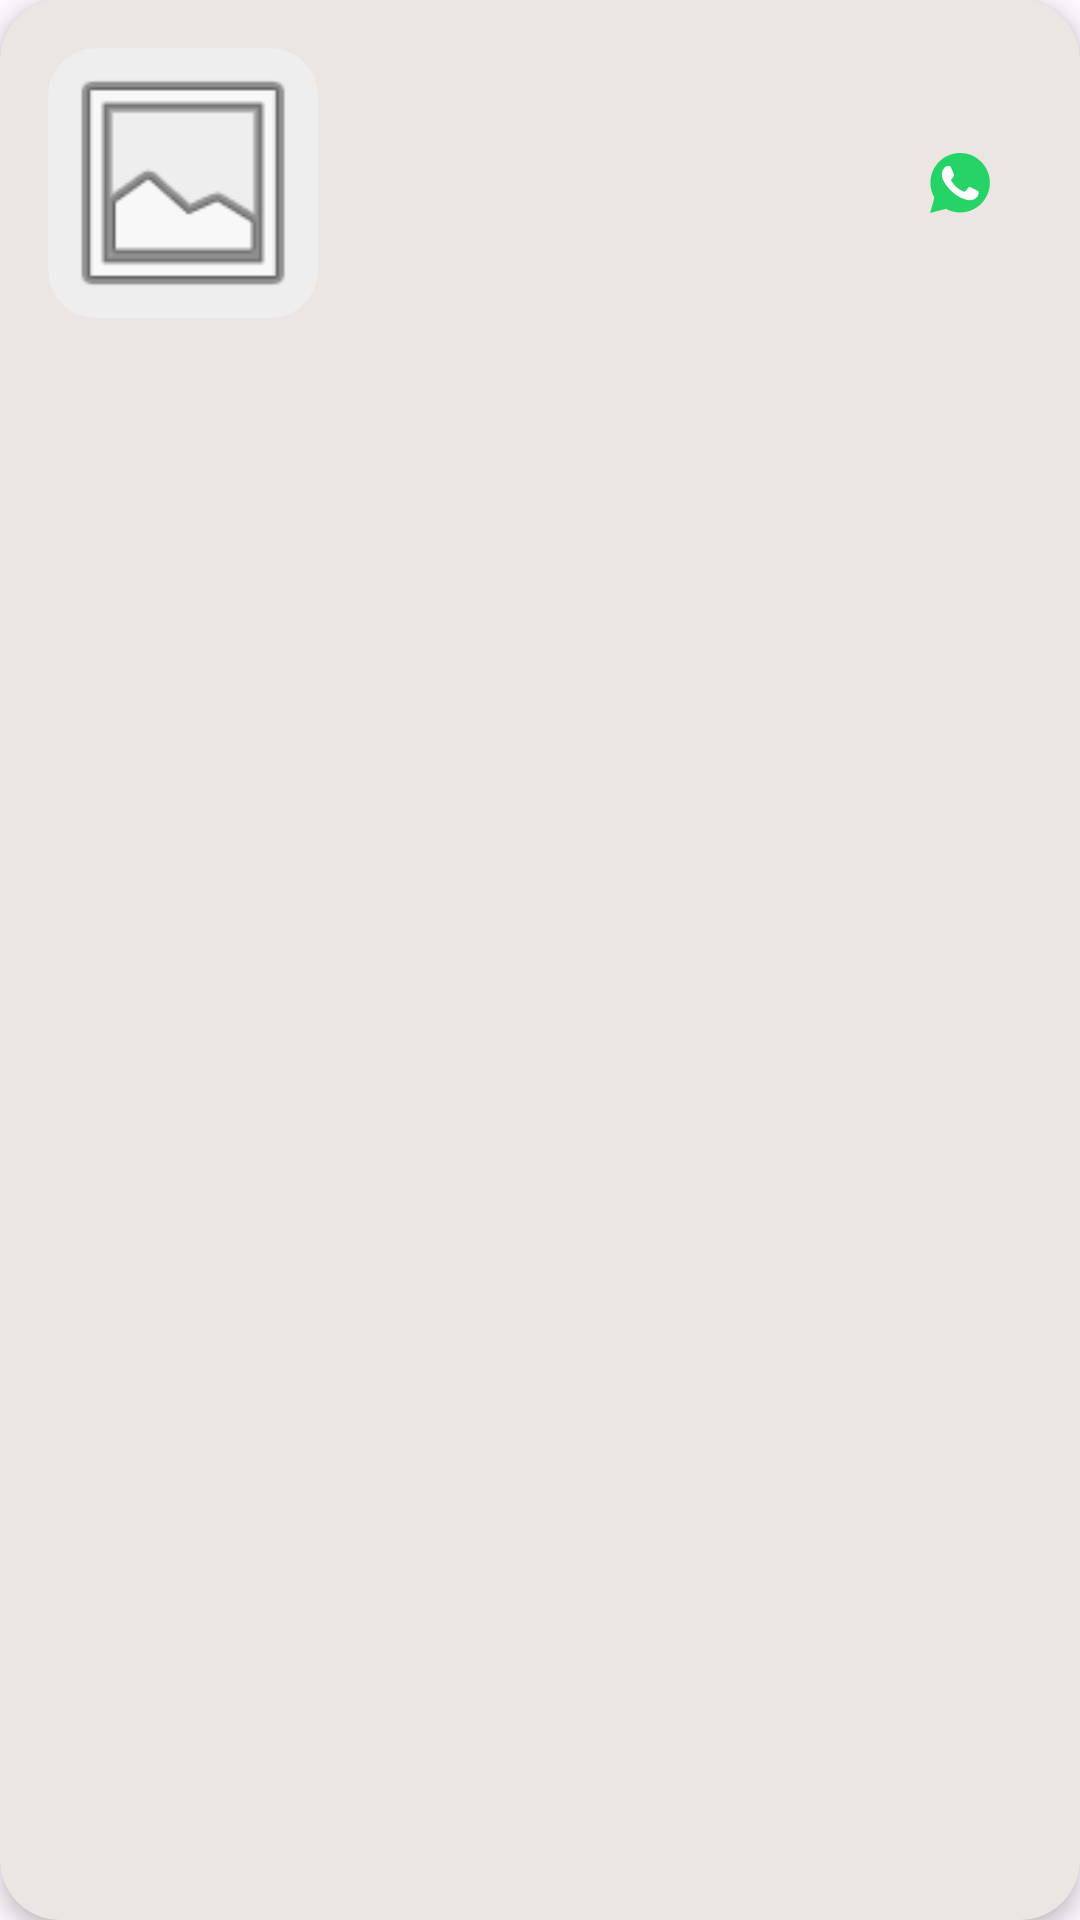

Icons on this 1080px x 1920px Android screen, each with its box as bbox=(x1, y1, x2, y2):
Foto del refugio: bbox=(48, 48, 318, 318)
